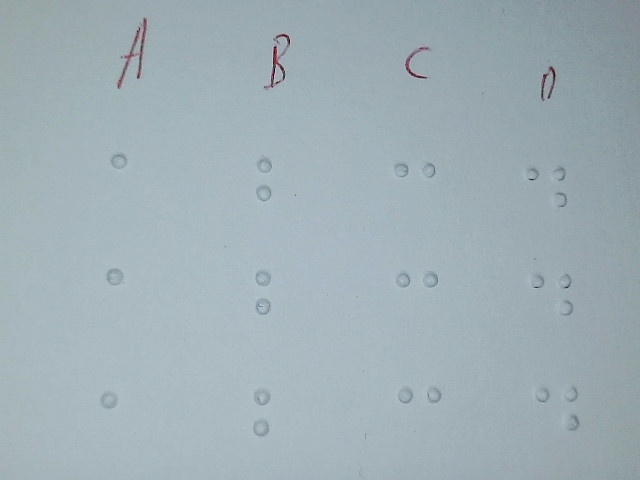A: (101, 142, 161, 242), (97, 256, 157, 356)
B: (248, 147, 306, 237), (244, 260, 302, 350), (244, 377, 302, 467)
C: (388, 151, 442, 234), (391, 262, 445, 345), (393, 376, 447, 459)
